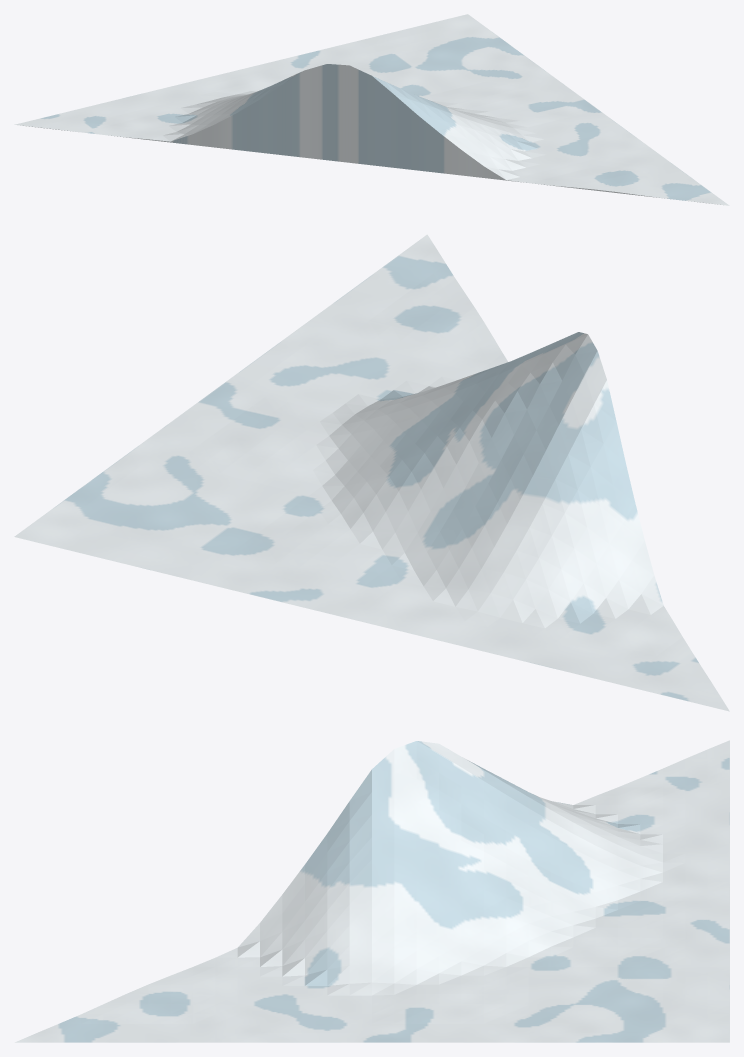
File: Snow_Mountains_03_SE.obj
3 renders of one model, top to bottom at view 1: azimuth 30°, elevation 25°; view 2: azimuth 150°, elevation 25°; view 3: azimuth 270°, elevation 25°, orthographic. The views are drawn at different scales.
Bounding box in the file's own units: 10 × 2.05 × 10.
Materials: 1 (1 with a texture image).
